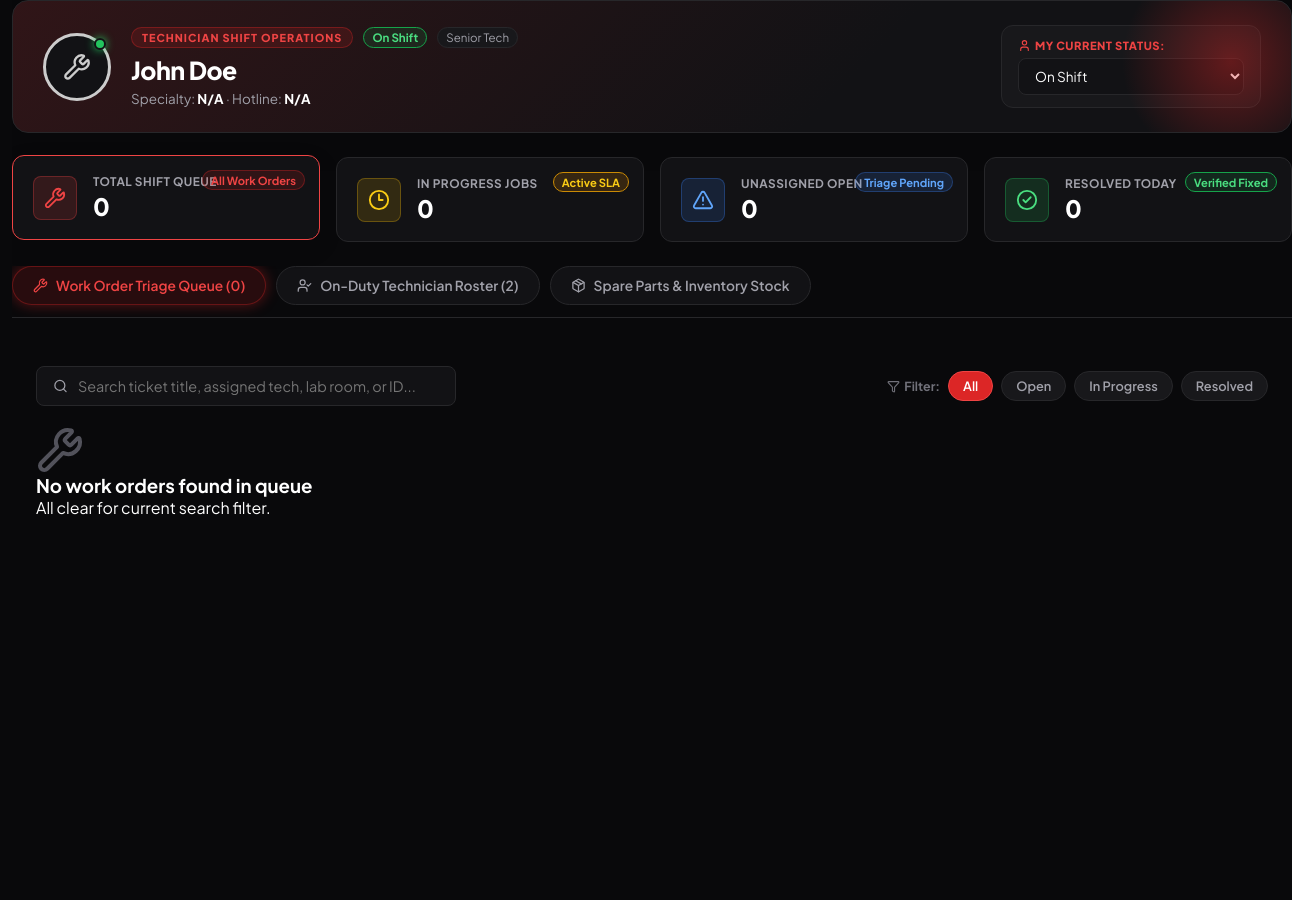
Test: TechnicianDashboard › Isolation & Status Updates › should not allow selecting a different technician in roster (inspect queue sets search filter instead)
// Click Roster tab
Click the button "On-Duty Technician Roster (2)": click(408, 286) [276, 266, 540, 305]
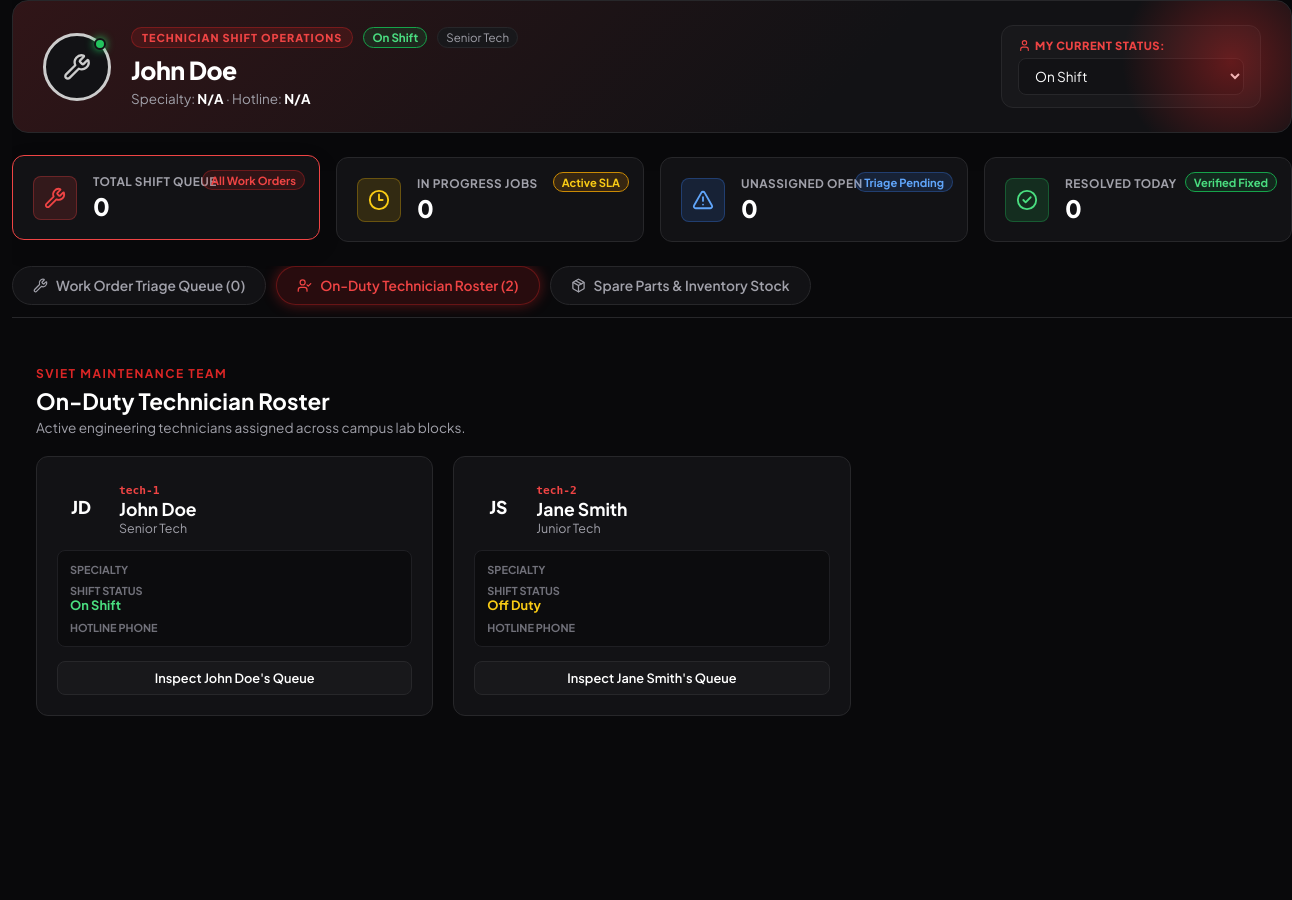
// Click 'Inspect Jane Smith's Queue'
Click the button "Inspect Jane Smith's Queue": click(652, 678) [474, 661, 830, 695]
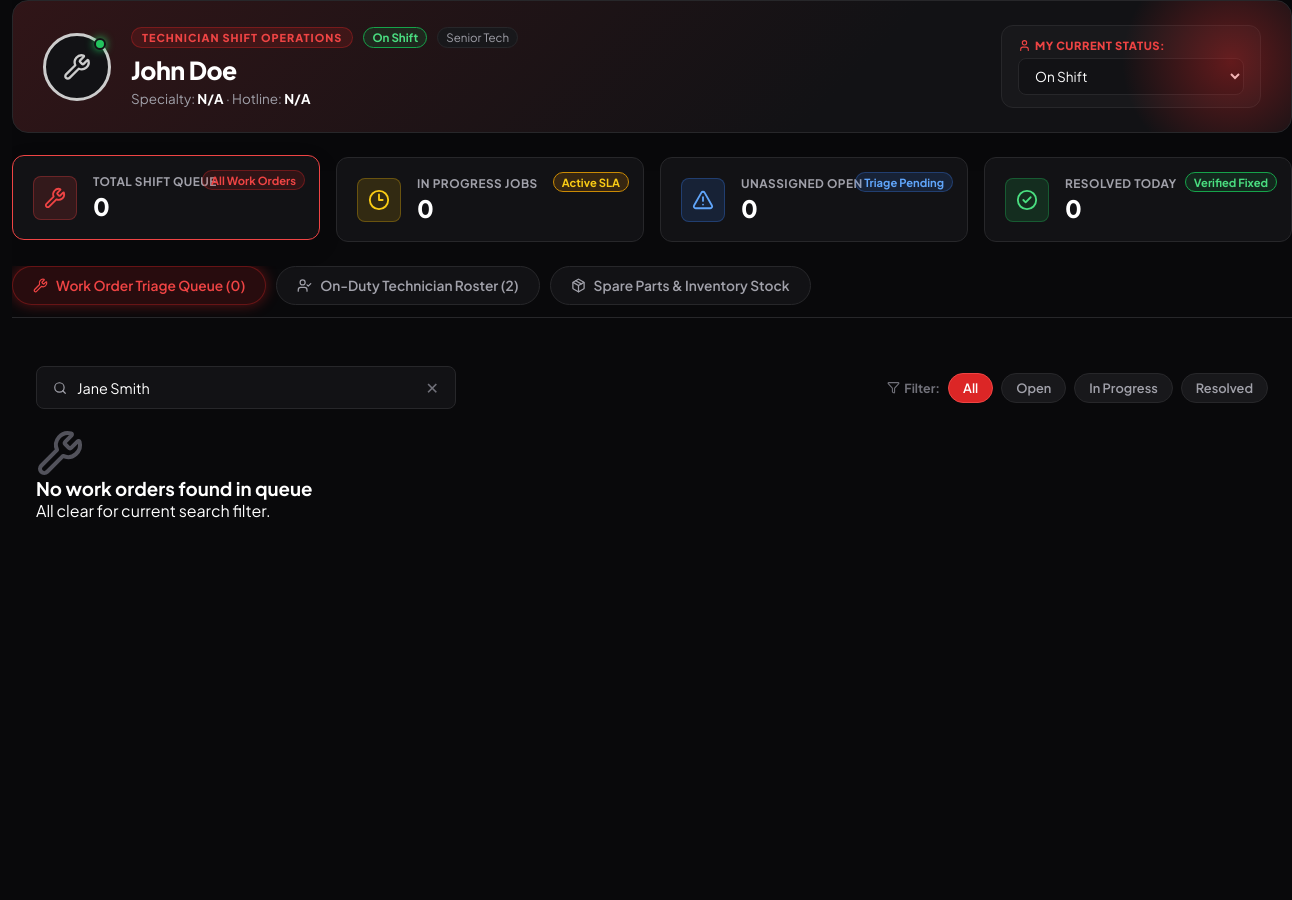
Expected: the field with placeholder "Search ticket title, assigned tech, lab room, or ID..." holds "Jane Smith", [77, 378, 416, 396]
